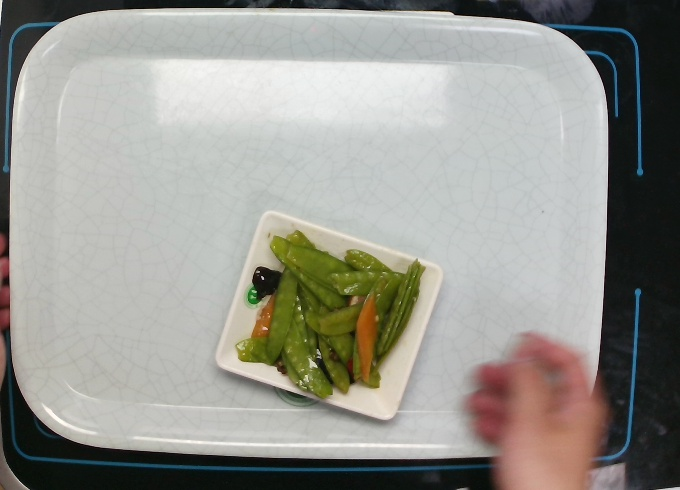WCQzf-Bai_Se_Si_Fang_Die: (210, 207, 446, 425)
